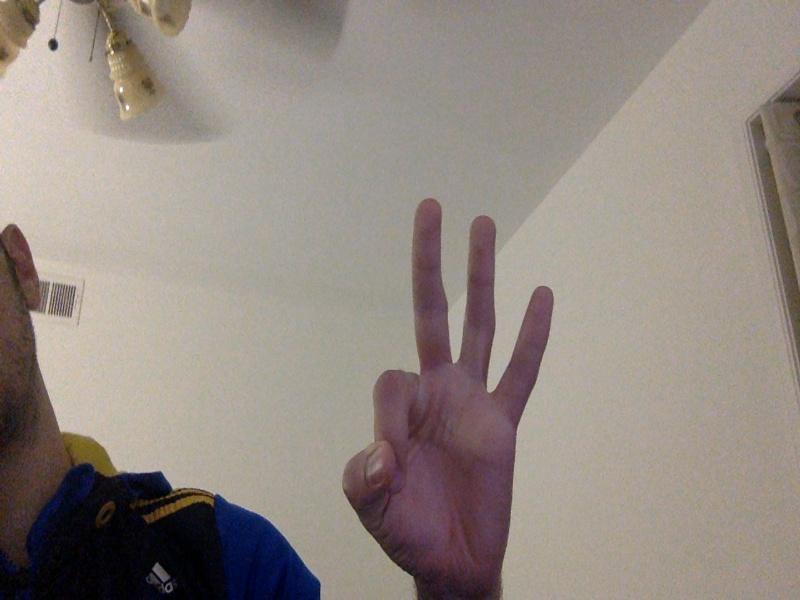3-hand: (343, 197, 555, 588)
